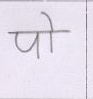au_matra: (45, 13, 56, 53)
